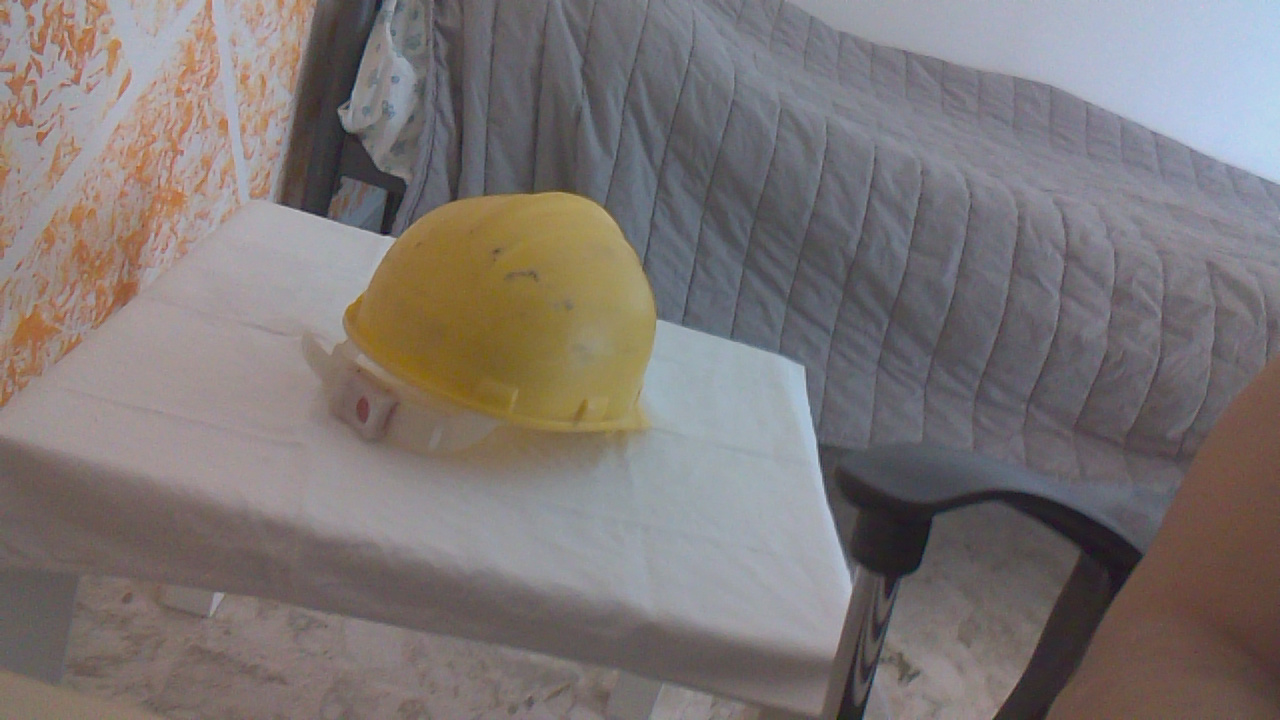Helmet: (302, 181, 663, 484)
